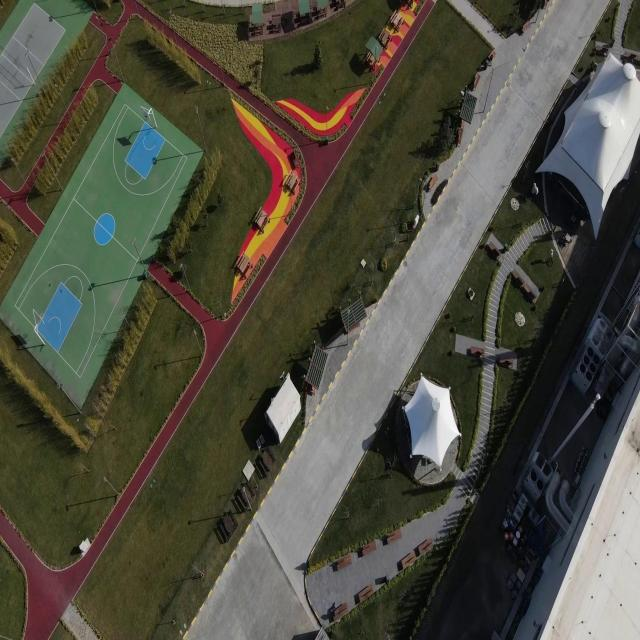p3rson: (546, 247, 554, 265), (489, 54, 493, 67)
